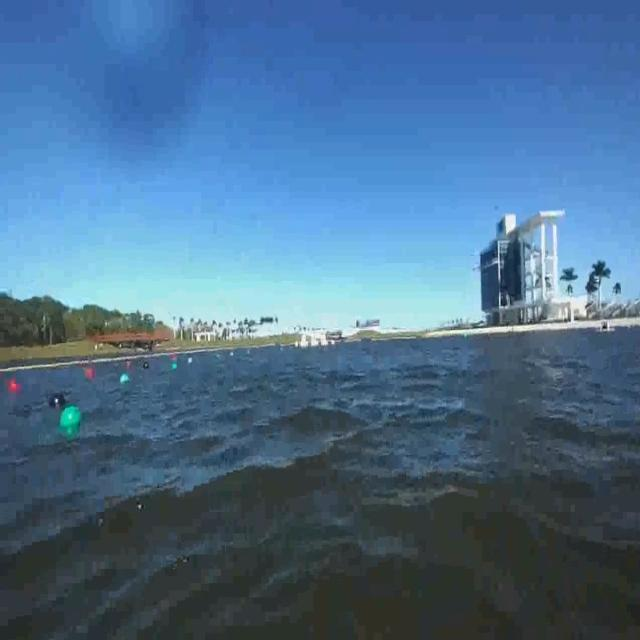black-buoy: (50, 395, 64, 411), (142, 360, 151, 373)
green-buoy: (62, 407, 82, 431), (120, 374, 129, 386)
red-buoy: (8, 381, 20, 394), (87, 366, 96, 379)
